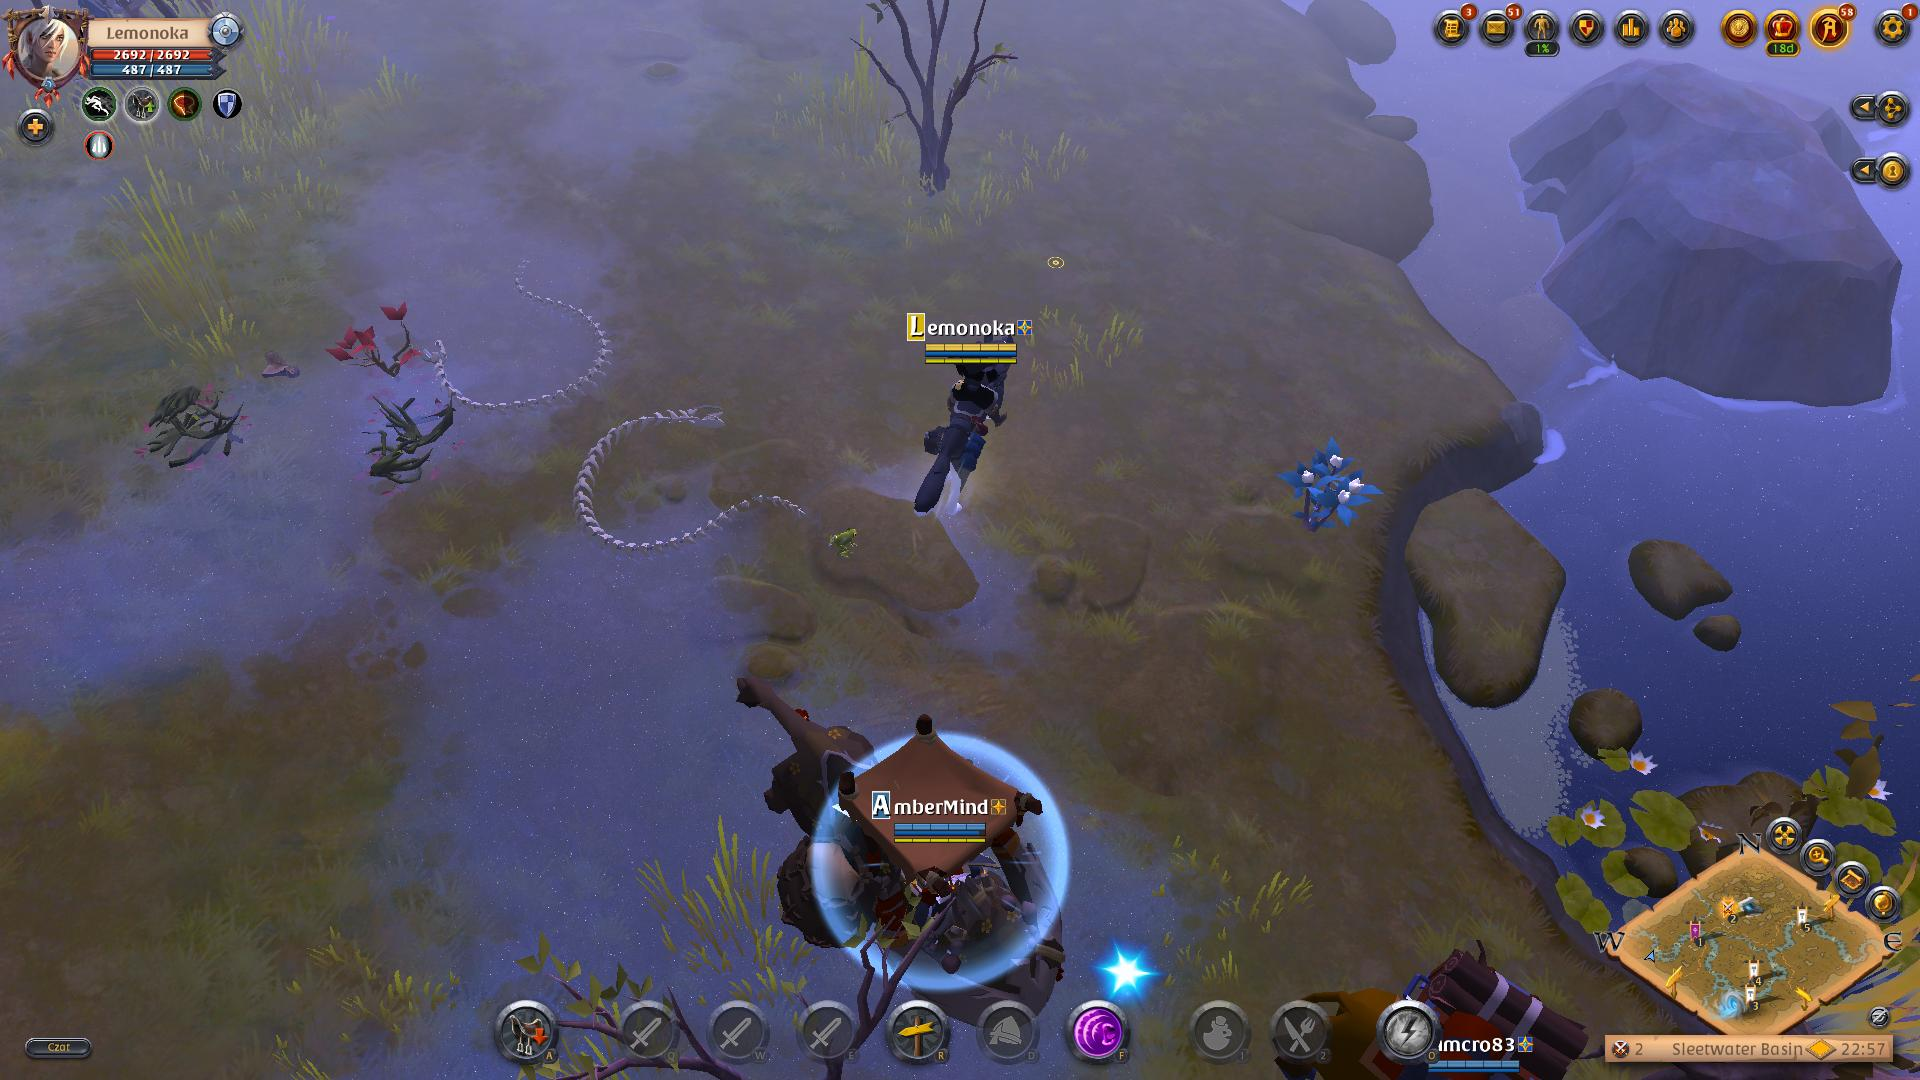fiber tier 4: (1276, 436, 1379, 537)
